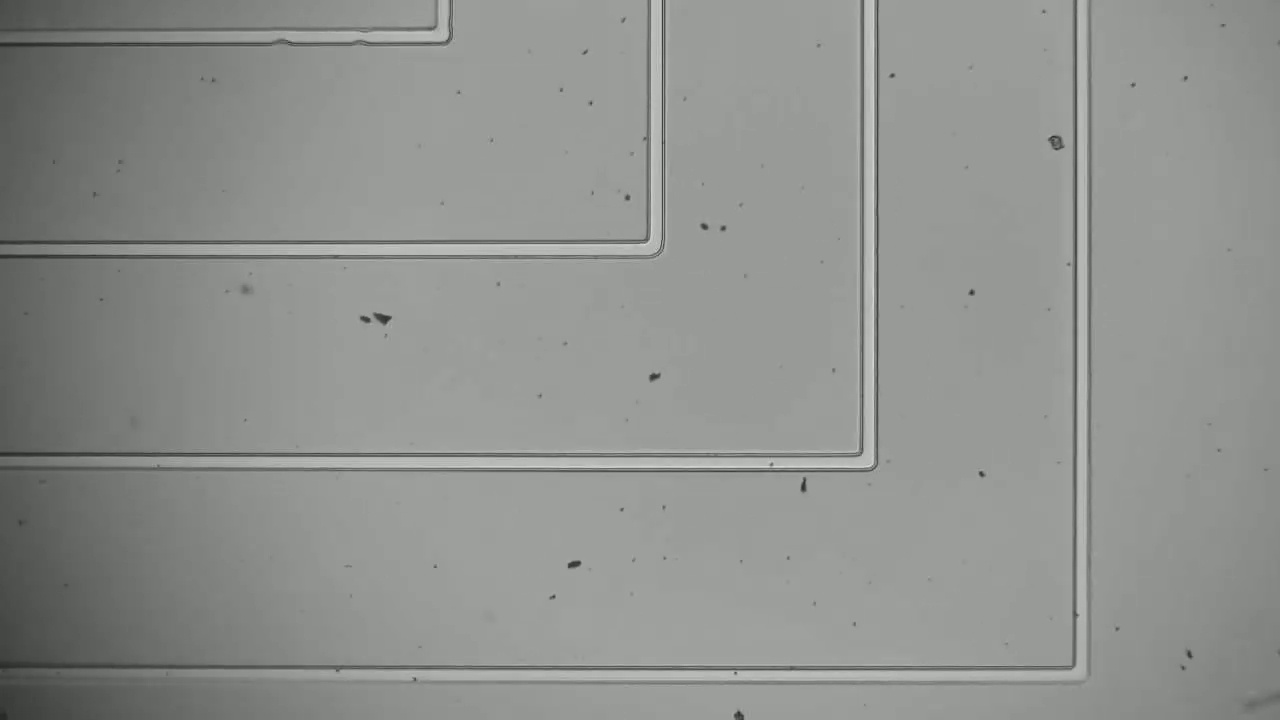edge_bite: (261, 22, 303, 57), (340, 21, 380, 50)
